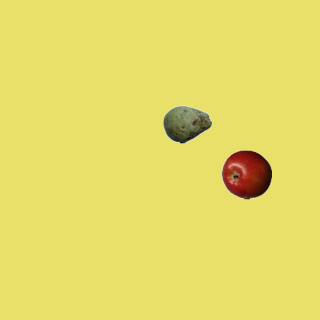Apple Braeburn: (221, 149, 271, 199)
Pear Stone: (162, 99, 212, 149)
